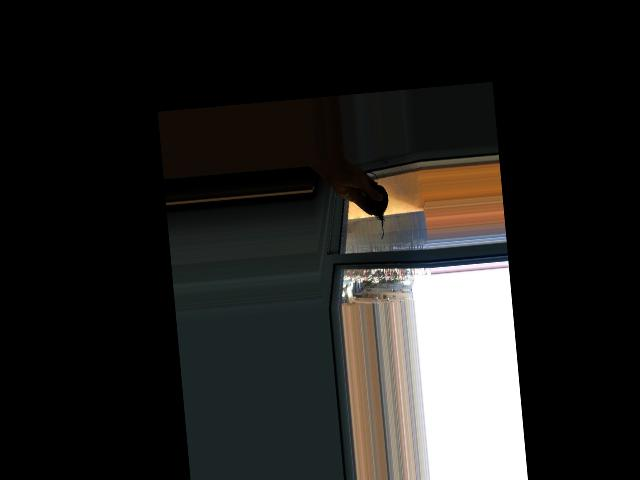beet: (356, 170, 391, 241)
